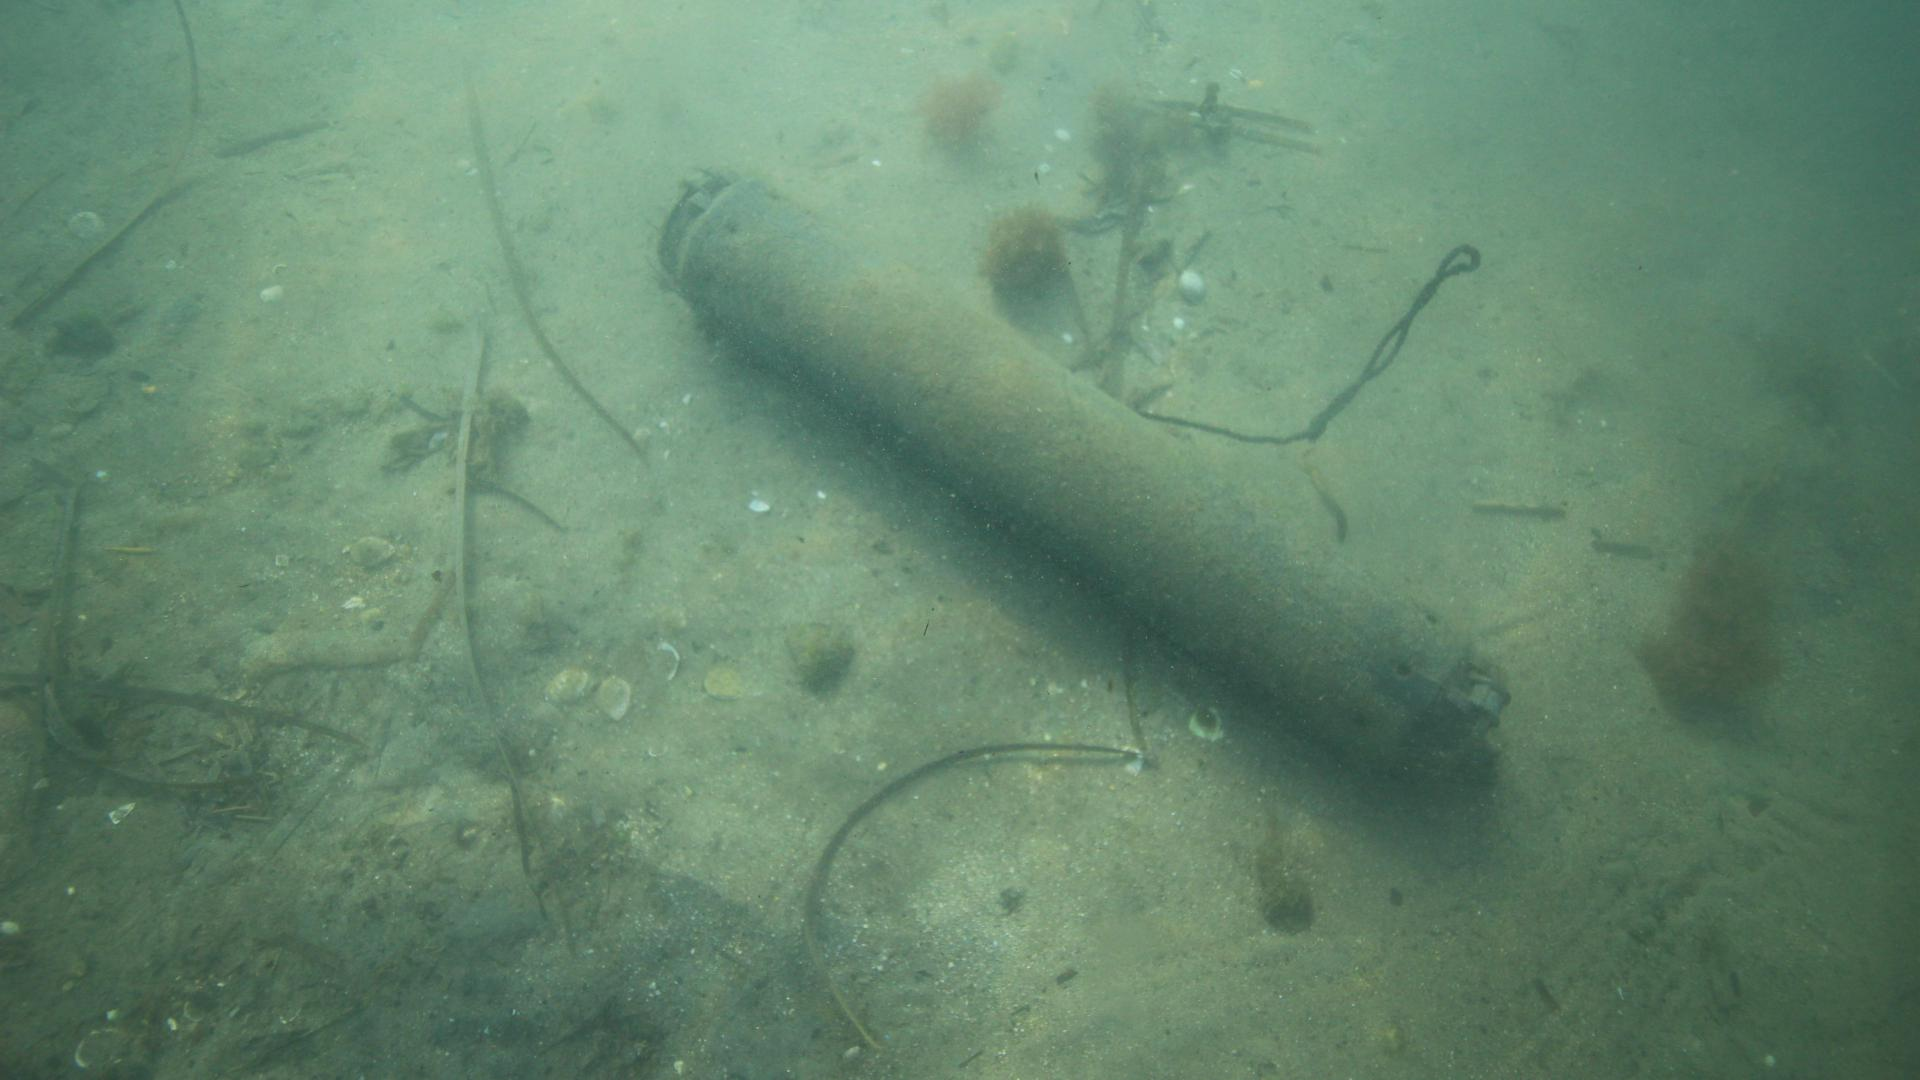eel fish trap: (659, 171, 1510, 793)
rope: (1131, 243, 1481, 543)
